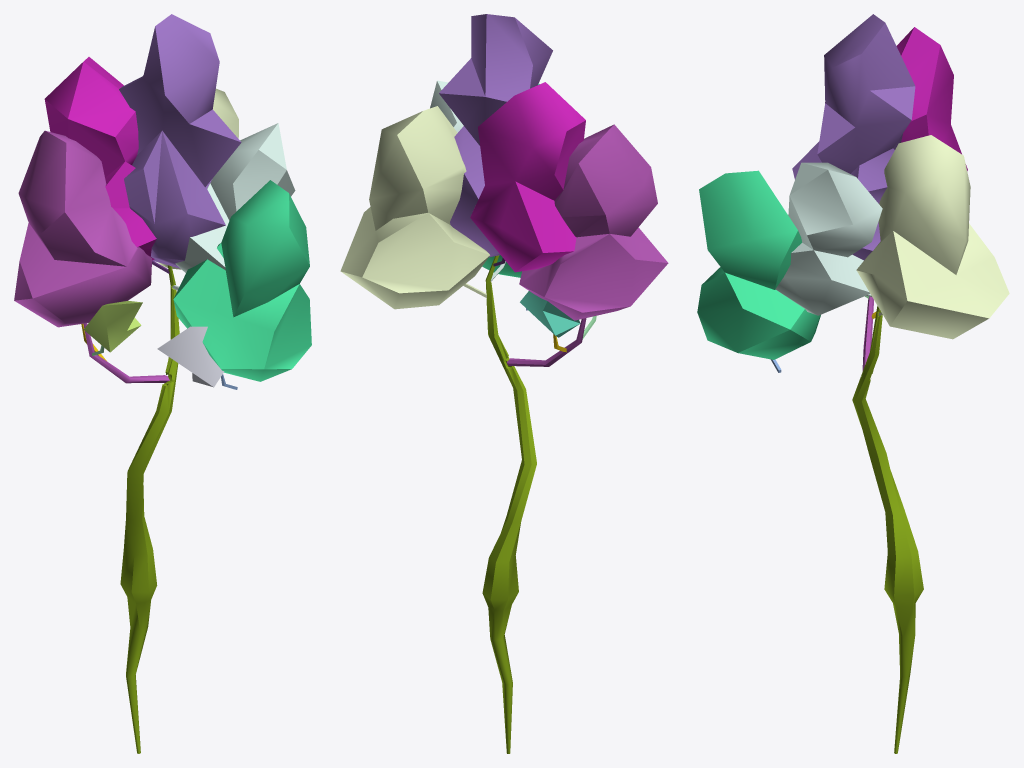
The picture shows the model from 3 angles, left to right: view 1: azimuth 30°, elevation 25°; view 2: azimuth 150°, elevation 25°; view 3: azimuth 270°, elevation 25°; orthographic projection. The views are drawn at different scales.
Visible parts, largest first — view 1: SM_Env_Mangrove_Tree_01_SM_Env_Mangrove_Tree_01_PolygonPirat (×6), split_parent_23, split_parent_0, split_parent_29; view 2: SM_Env_Mangrove_Tree_01_SM_Env_Mangrove_Tree_01_PolygonPirat (×4), split_parent_23, split_parent_0, split_parent_29; view 3: SM_Env_Mangrove_Tree_01_SM_Env_Mangrove_Tree_01_PolygonPirat (×4), split_parent_29, split_parent_0.
Boxes of the visible parts, x1=… form: SM_Env_Mangrove_Tree_01_SM_Env_Mangrove_Tree_01_PolygonPirat (×6): x1=44, y1=14, x2=311, y2=387; split_parent_23: x1=14, y1=130, x2=169, y2=383; split_parent_0: x1=120, y1=265, x2=179, y2=753; split_parent_29: x1=172, y1=123, x2=295, y2=290; SM_Env_Mangrove_Tree_01_SM_Env_Mangrove_Tree_01_PolygonPirat (×4): x1=340, y1=14, x2=585, y2=337; split_parent_23: x1=507, y1=124, x2=668, y2=366; split_parent_0: x1=482, y1=255, x2=536, y2=753; split_parent_29: x1=430, y1=80, x2=505, y2=281; SM_Env_Mangrove_Tree_01_SM_Env_Mangrove_Tree_01_PolygonPirat (×4): x1=697, y1=14, x2=1009, y2=359; split_parent_29: x1=775, y1=162, x2=882, y2=315; split_parent_0: x1=852, y1=306, x2=923, y2=753.
Bounding box in the file's own units: 0.39 × 1 × 0.3806.
